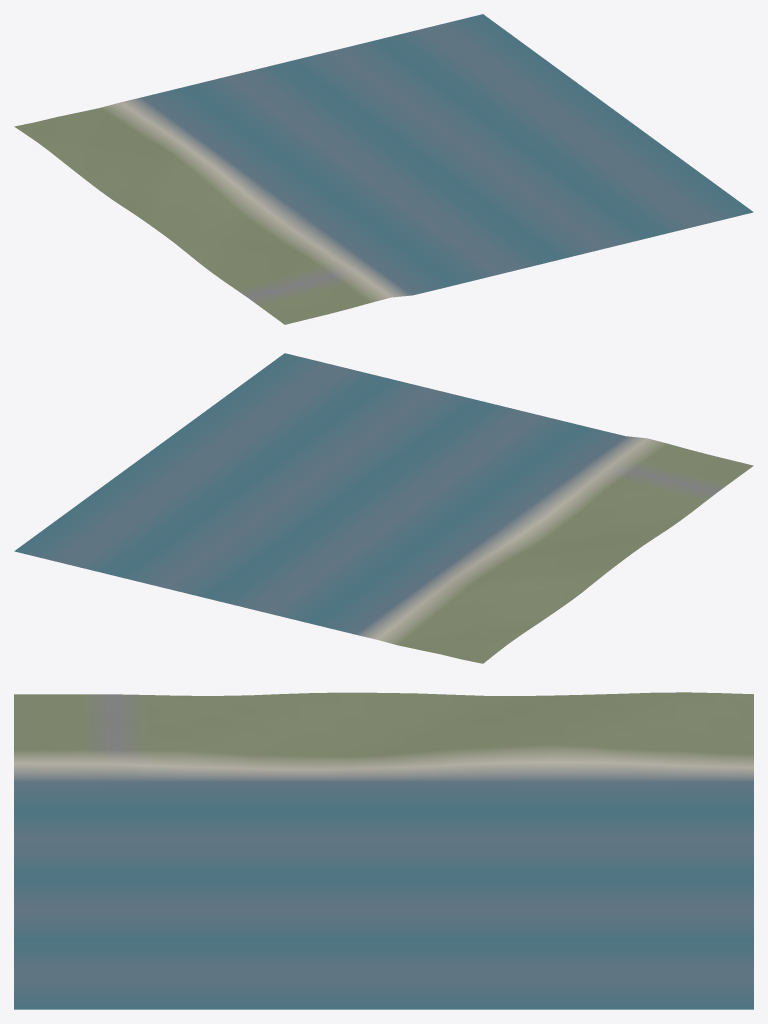
The model's file is q1_coarse.glb.
3 views of the same model, one above another, from view 1: azimuth 30°, elevation 25°; view 2: azimuth 150°, elevation 25°; view 3: azimuth 270°, elevation 25° (orthographic). The views are drawn at different scales.
Size of the model in its own units: 600 by 10.62 by 600.
